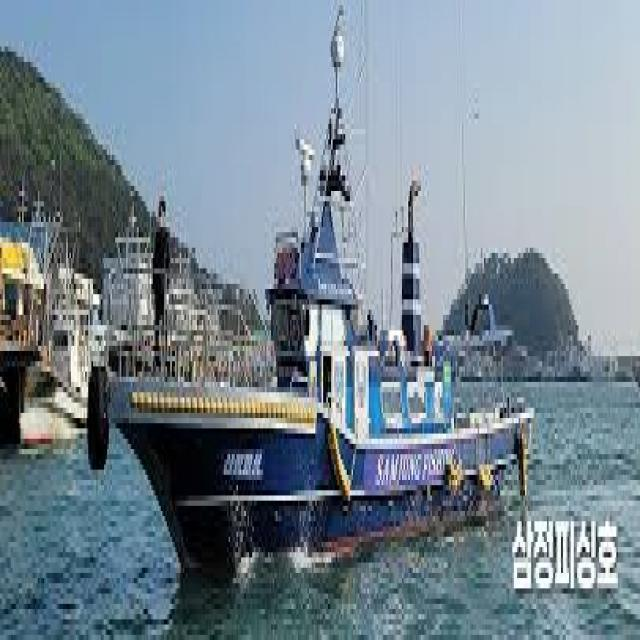Ship: (80, 1, 558, 615)
